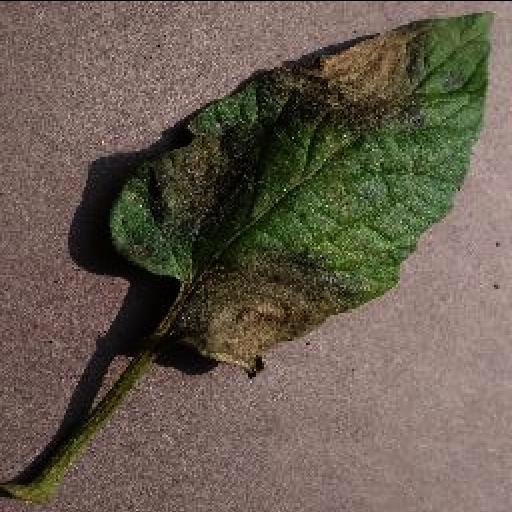disease_tomato: (108, 6, 498, 370)
